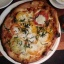pizza: (3, 3, 56, 63)
